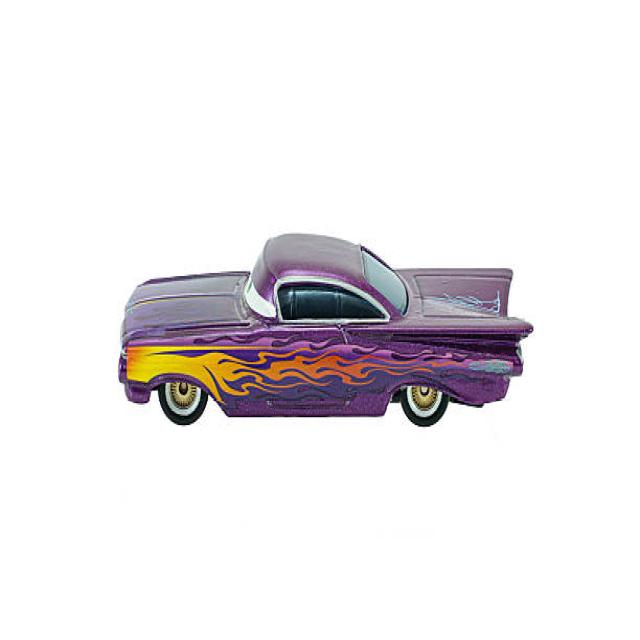Car: (117, 230, 533, 427)
